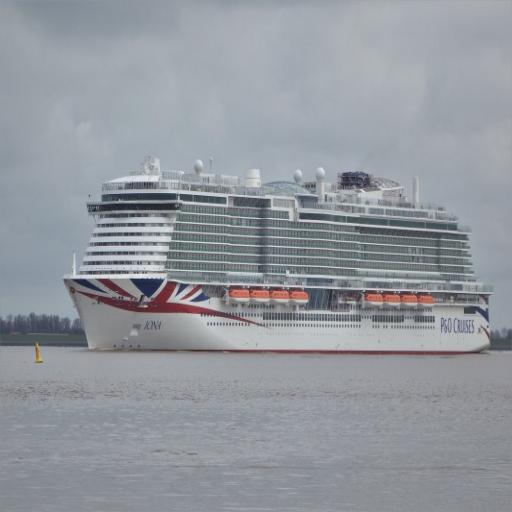cruises: (61, 140, 496, 363)
